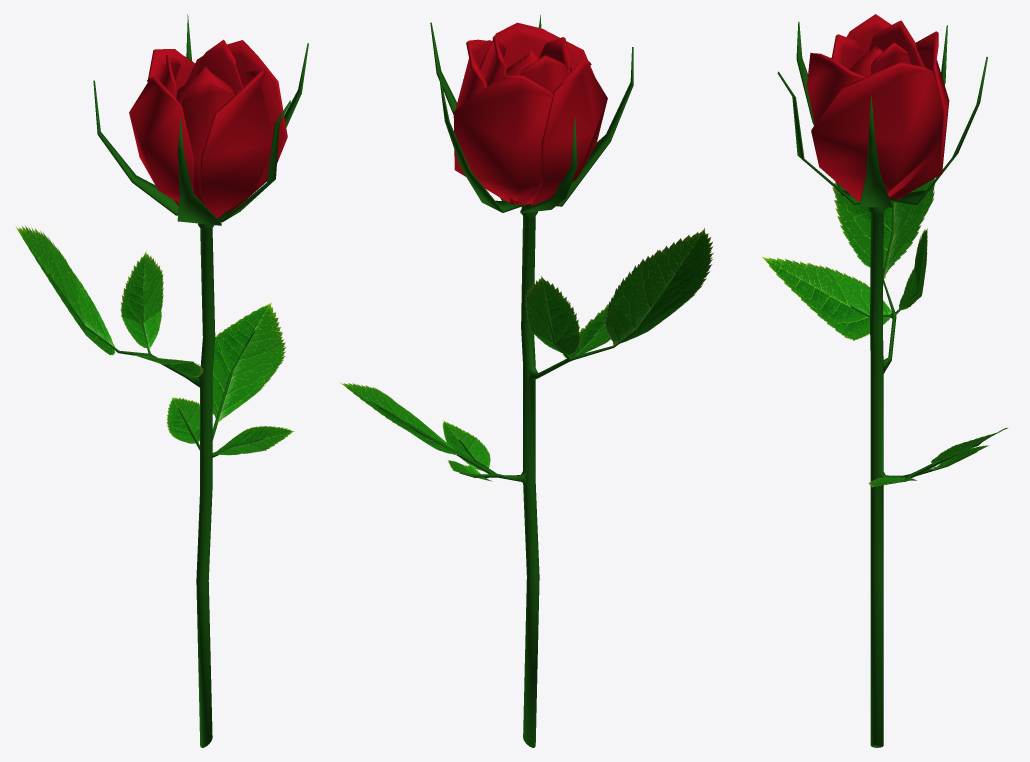
The model's file is freshRose.gltf.
The picture shows the model from 3 angles, left to right: view 1: azimuth 30°, elevation 25°; view 2: azimuth 150°, elevation 25°; view 3: azimuth 270°, elevation 25°; orthographic projection. The views are drawn at different scales.
Visible parts, largest first — view 1: Cylinder; view 2: Cylinder; view 3: Cylinder.
Part boxes in pixels (x1=…): Cylinder: x1=15, y1=14, x2=308, y2=747; Cylinder: x1=339, y1=15, x2=713, y2=747; Cylinder: x1=761, y1=14, x2=1008, y2=747.
Bounding box in the file's own units: 0.24 × 0.5138 × 0.1666.
Materials: 3 (1 with a texture image).
